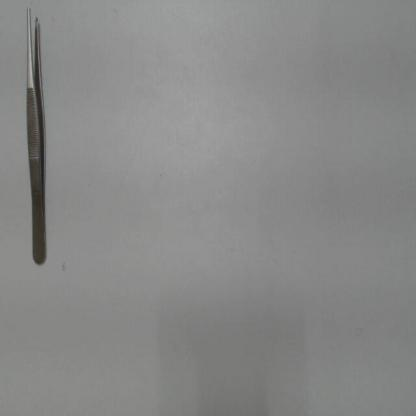Gillies Toothed Dissector: (20, 3, 52, 270)
